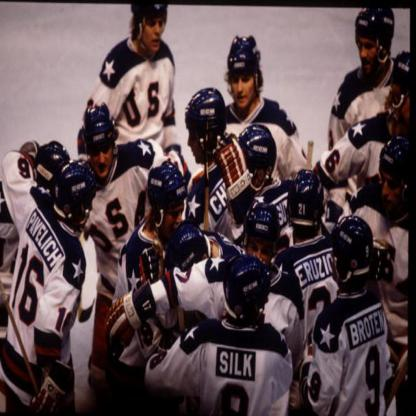face: (231, 66, 255, 108), (144, 10, 165, 52), (91, 137, 112, 178), (382, 171, 402, 213), (360, 34, 379, 74), (249, 236, 269, 273), (164, 198, 183, 235), (188, 129, 204, 164)
